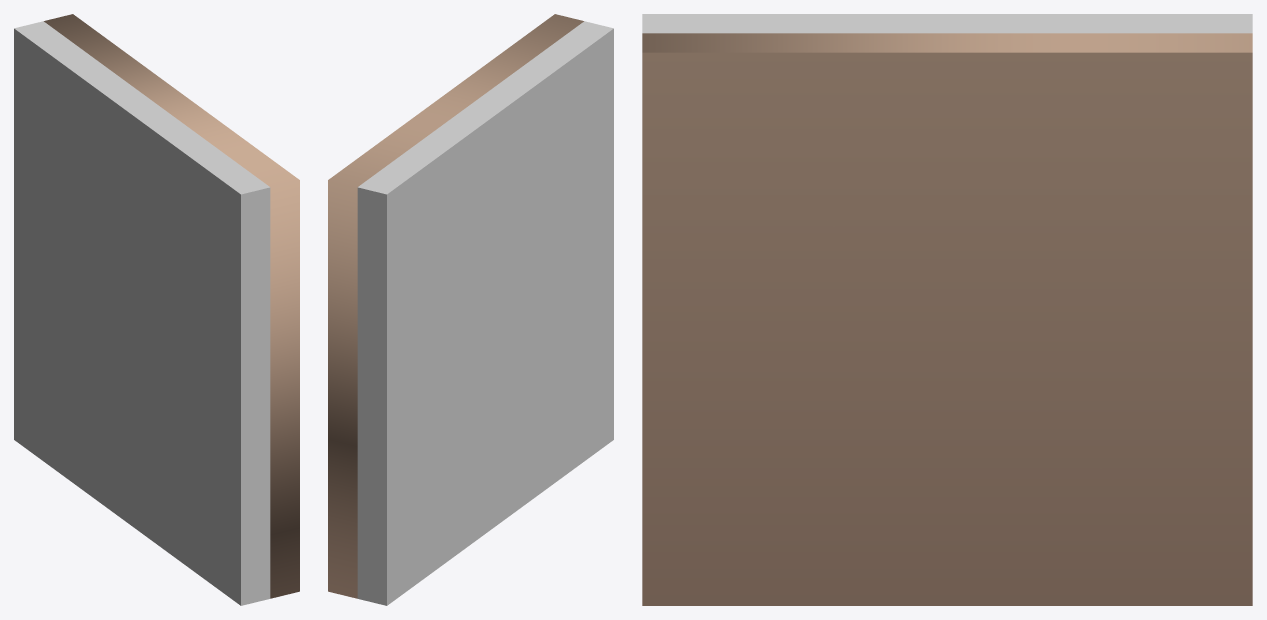
File: art-canvas-square (%wall).glb
3 renders of one model, left to right at view 1: azimuth 30°, elevation 25°; view 2: azimuth 150°, elevation 25°; view 3: azimuth 270°, elevation 25°, orthographic. The views are drawn at different scales.
Visible parts, largest first — view 1: art-canvas-square (%wall); view 2: art-canvas-square (%wall); view 3: art-canvas-square (%wall).
Part boxes in pixels (x1=…): art-canvas-square (%wall): x1=14, y1=14, x2=299, y2=605; art-canvas-square (%wall): x1=328, y1=14, x2=613, y2=605; art-canvas-square (%wall): x1=642, y1=14, x2=1252, y2=605.
Bounding box in the file's own units: 0.15 × 1 × 1.
